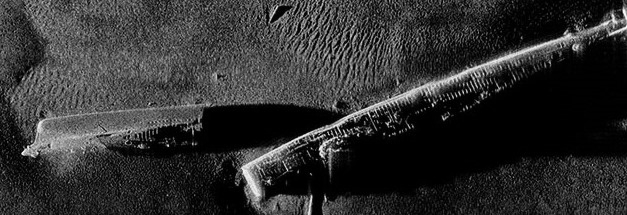ship: (243, 11, 627, 198), (24, 112, 201, 156)
